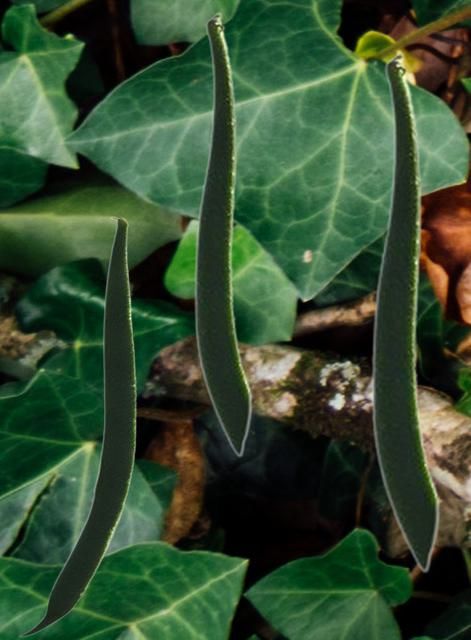french_bean: (18, 216, 135, 636), (370, 51, 440, 573), (193, 11, 252, 457)
